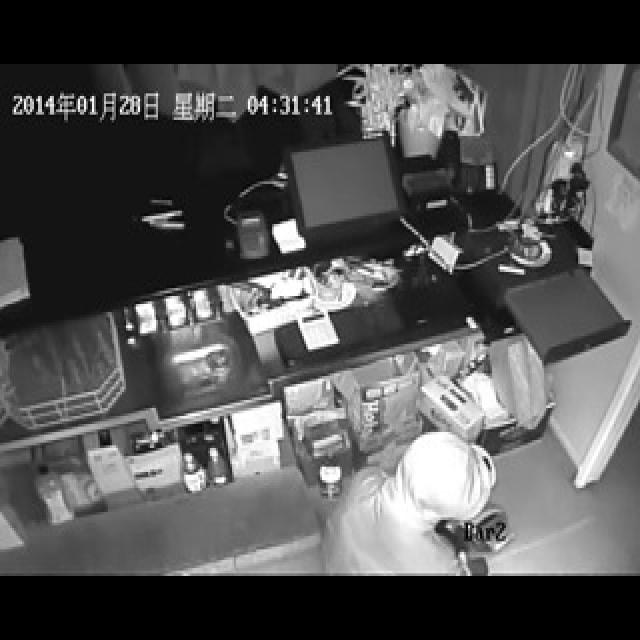thief: (366, 402, 514, 577)
